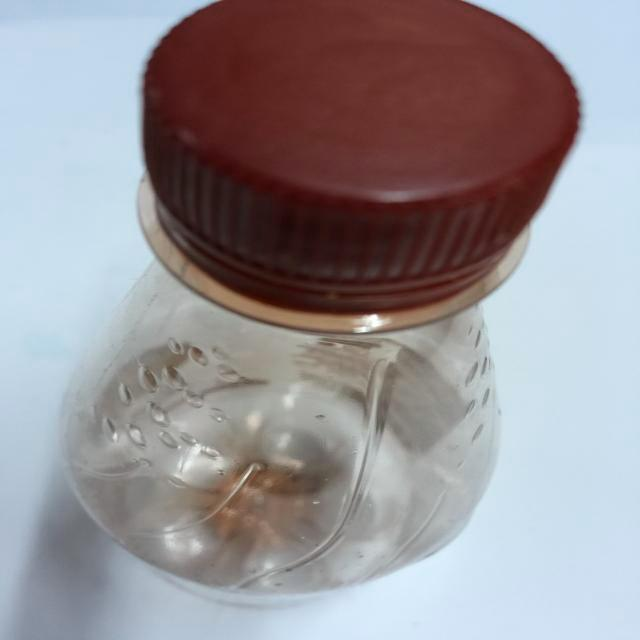plastic: (0, 0, 637, 623)
